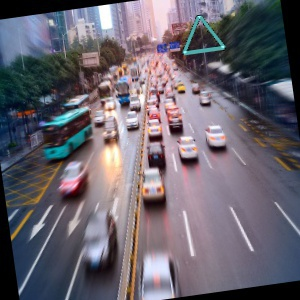triangle: (181, 14, 227, 56)
